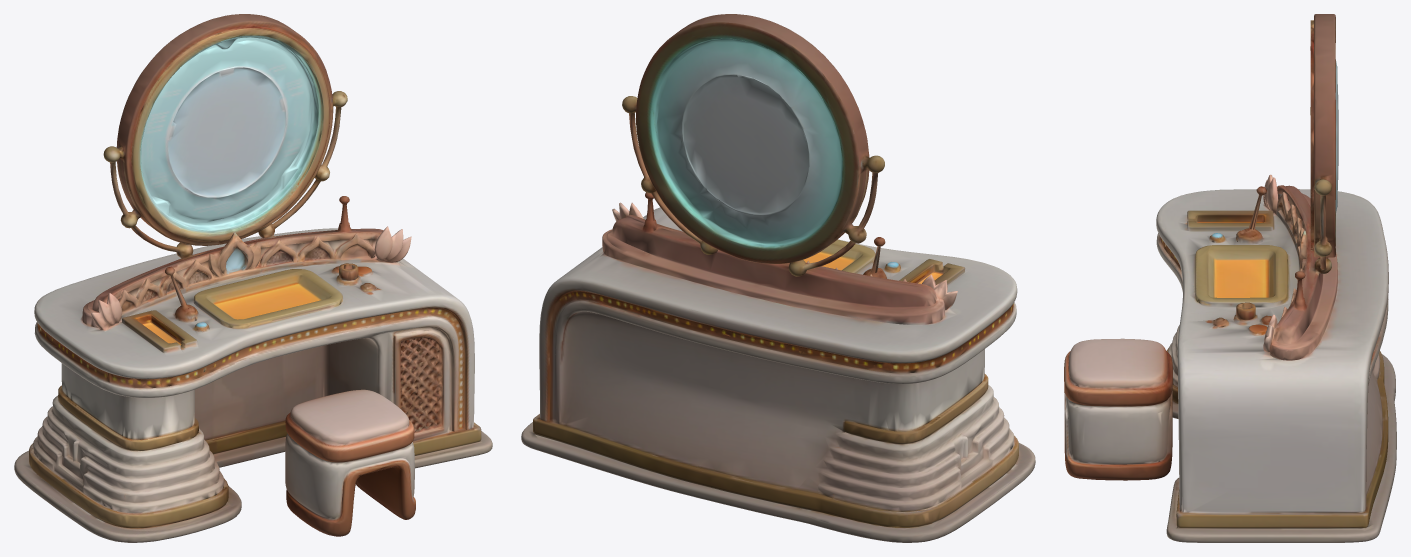
The model's file is research_station.glb.
The picture shows the model from 3 angles, left to right: view 1: azimuth 30°, elevation 25°; view 2: azimuth 150°, elevation 25°; view 3: azimuth 270°, elevation 25°; orthographic projection. The views are drawn at different scales.
Parts seen in each view (by area): view 1: node_0; view 2: node_0; view 3: node_0.
Part boxes in pixels (x1,y1,x2,y2): node_0: (14,14,492,542); node_0: (521,14,1035,542); node_0: (1064,14,1396,542).
Bounding box in the file's own units: 0.7834 × 0.8034 × 0.5724.
Materials: 1 (1 with a texture image).
